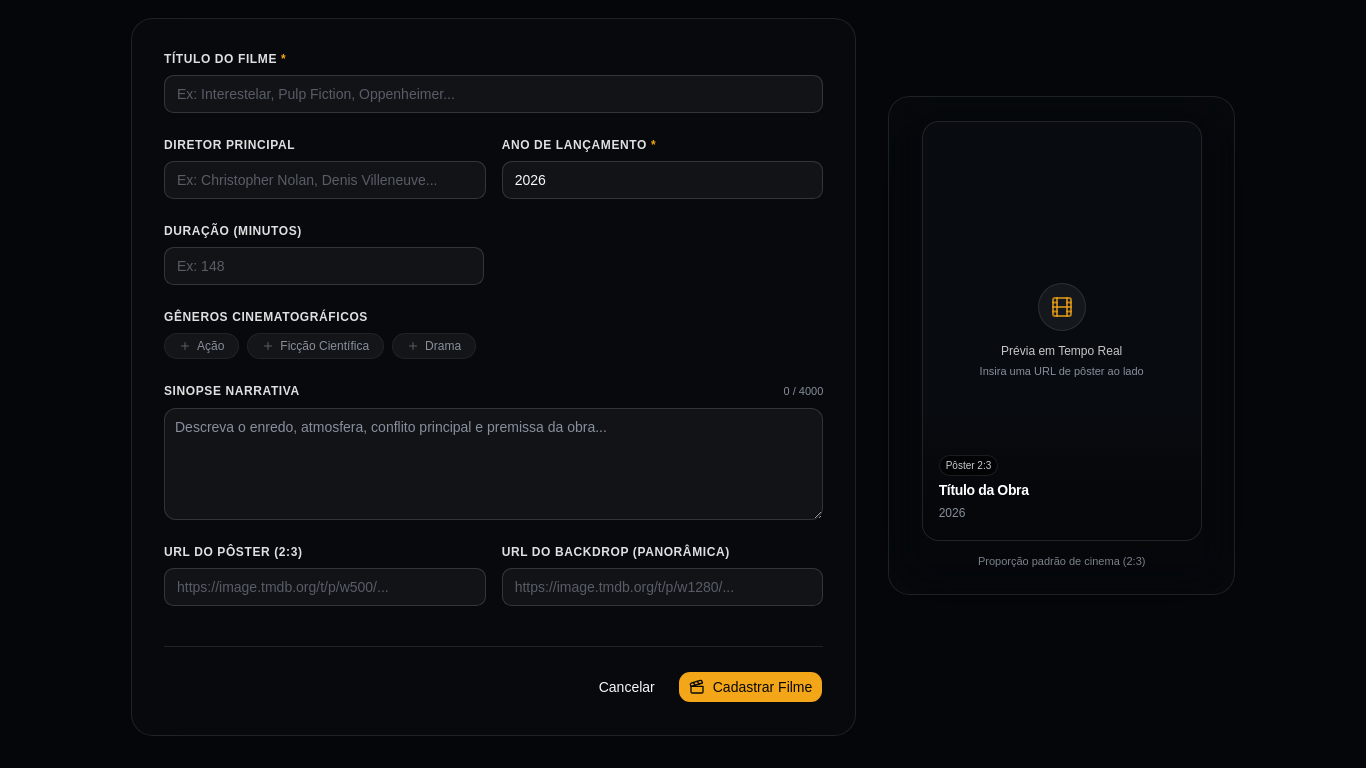
MovieFormView › exibe erro de validação ao tentar submeter formulário sem título
The width and height of the screenshot is (1366, 768).
(page scrolled)
Click the button "Cadastrar Filme" at (750, 686), box [678,670,823,702]
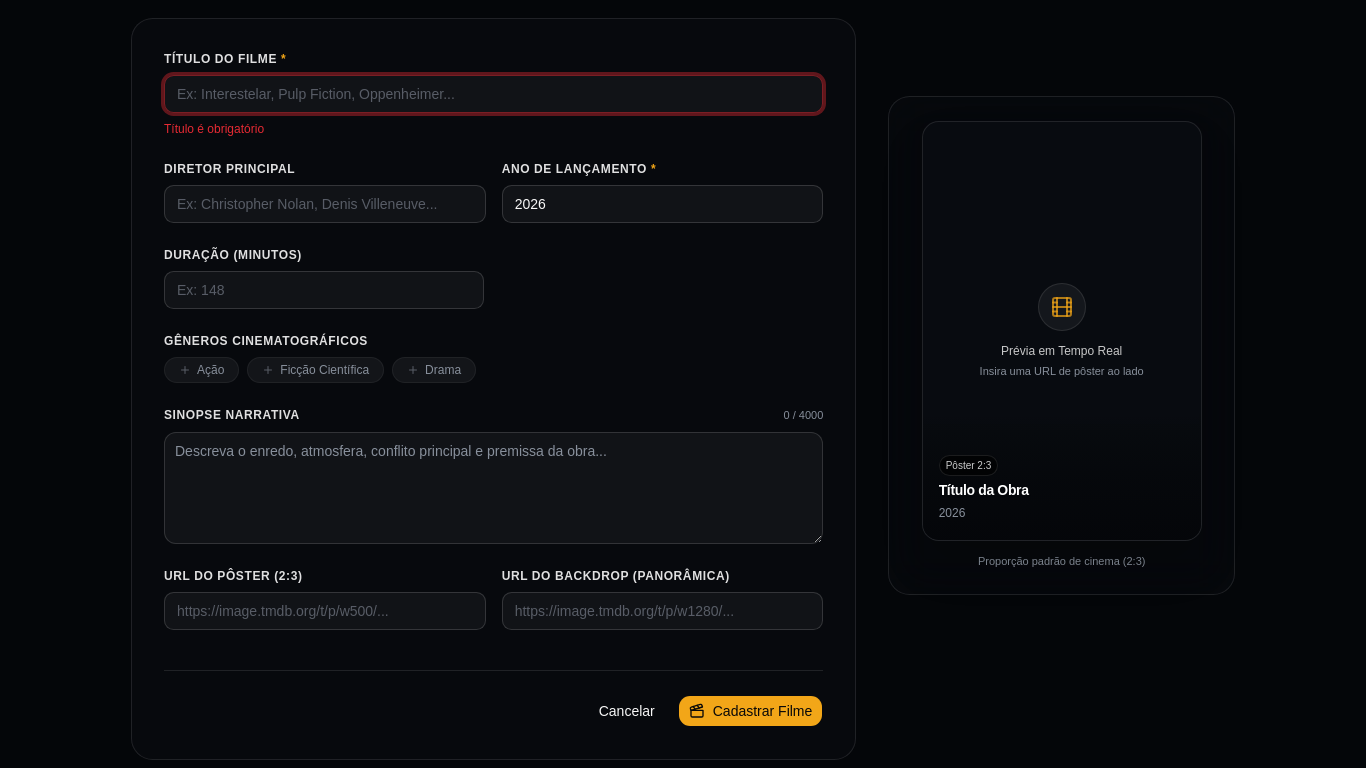
Check: the text "Título é obrigatório" is shown, box [164,122,264,136]
